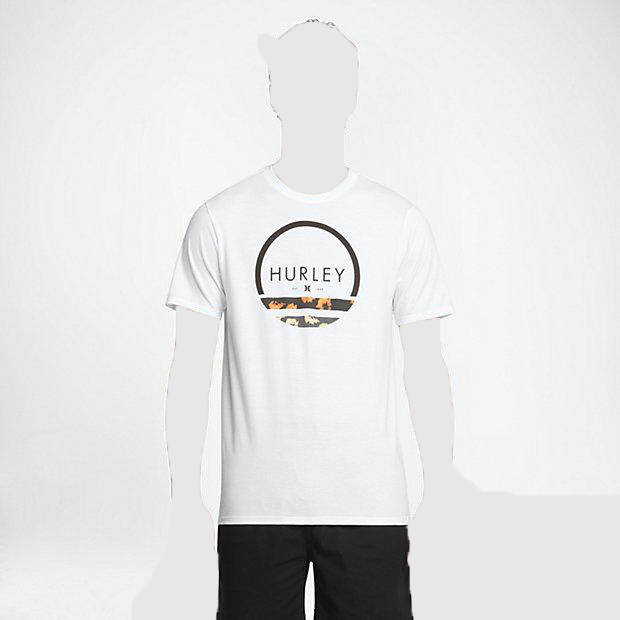teeshirt: (163, 163, 457, 533)
